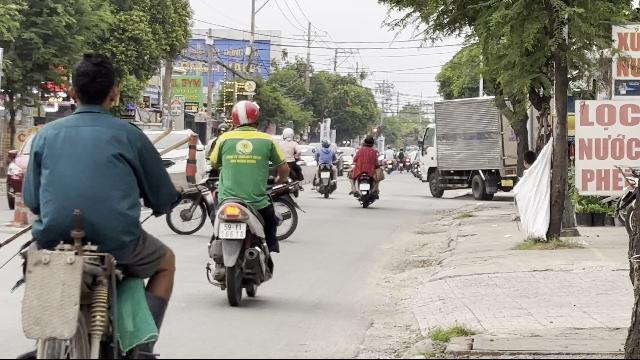helmet: (230, 99, 260, 128)
licenseplate: (219, 222, 245, 240)
motorcyclist: (5, 48, 179, 360), (200, 97, 300, 305)
nohelmet: (68, 52, 122, 112)
